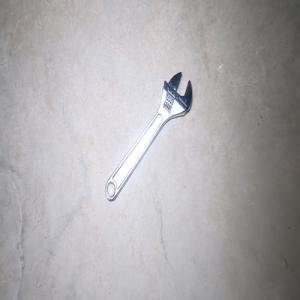Wrench: (104, 71, 192, 201)
